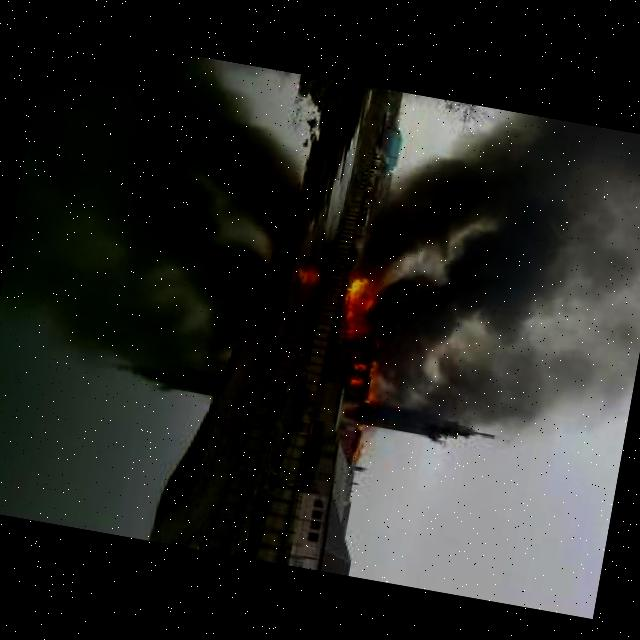fire: (343, 347, 405, 471), (325, 256, 388, 333)
